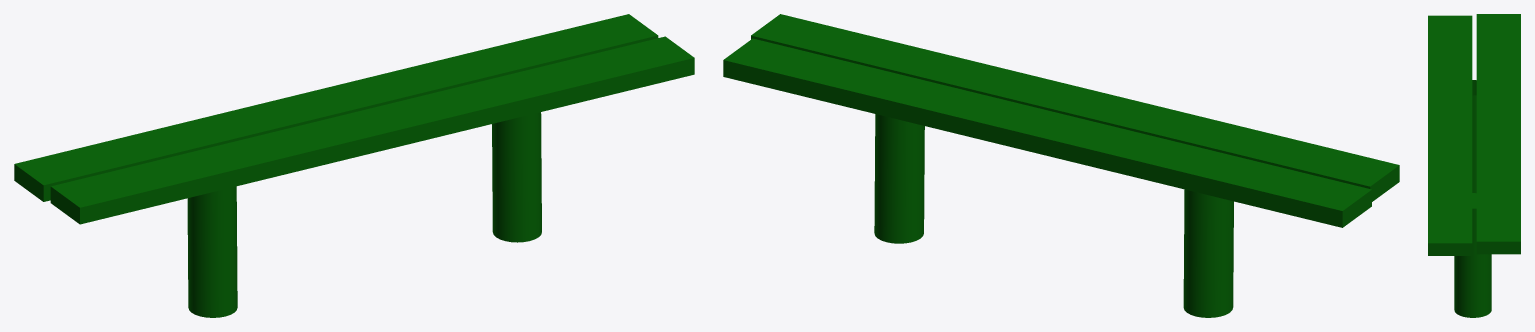
3 renders of one model, left to right at view 1: azimuth 30°, elevation 25°; view 2: azimuth 150°, elevation 25°; view 3: azimuth 270°, elevation 25°, orthographic. The views are drawn at different scales.
Visible parts, largest first — view 1: mesh1_mesh1-geometry, mesh2_mesh2-geometry; view 2: mesh1_mesh1-geometry, mesh2_mesh2-geometry; view 3: mesh1_mesh1-geometry, mesh2_mesh2-geometry.
Boxes of the visible parts, x1,y1,x2,y2 form: mesh1_mesh1-geometry: (14, 14, 658, 317); mesh2_mesh2-geometry: (50, 36, 694, 224); mesh1_mesh1-geometry: (723, 38, 1371, 317); mesh2_mesh2-geometry: (751, 14, 1399, 201); mesh1_mesh1-geometry: (1454, 14, 1520, 317); mesh2_mesh2-geometry: (1428, 15, 1472, 255).
Bounding box in the file's own units: 0.9577 × 0.2366 × 0.1638.
